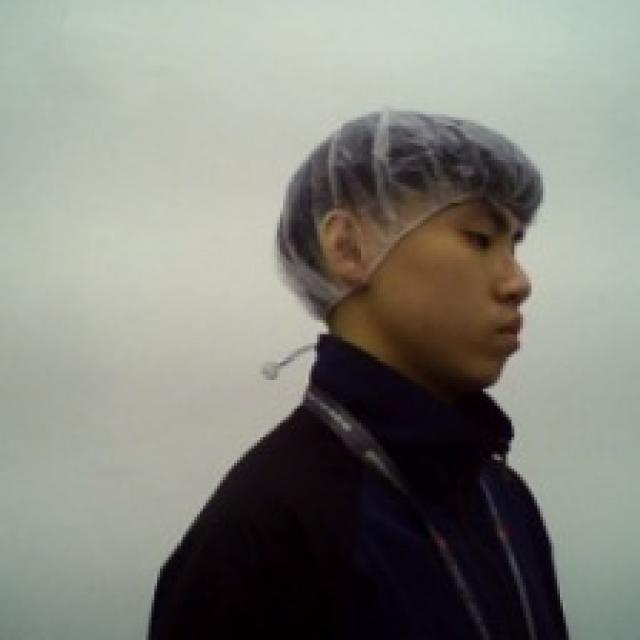gloves: (262, 102, 558, 313)
no_hairnet: (317, 243, 568, 414)
